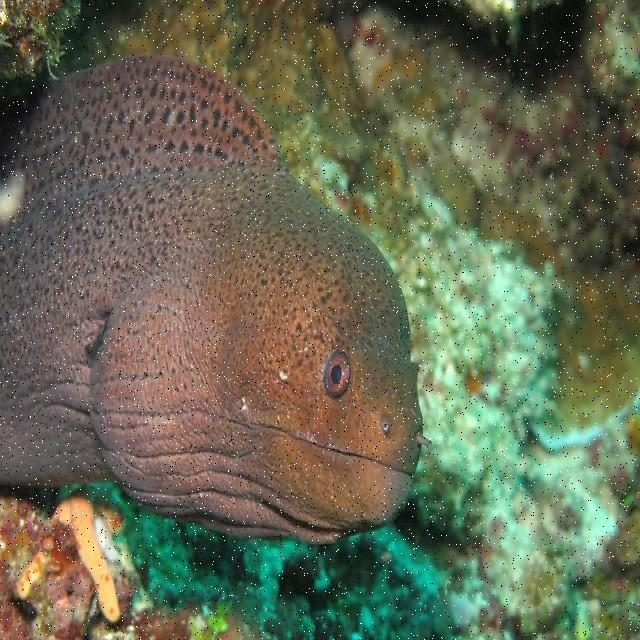fish: (0, 55, 433, 545)
